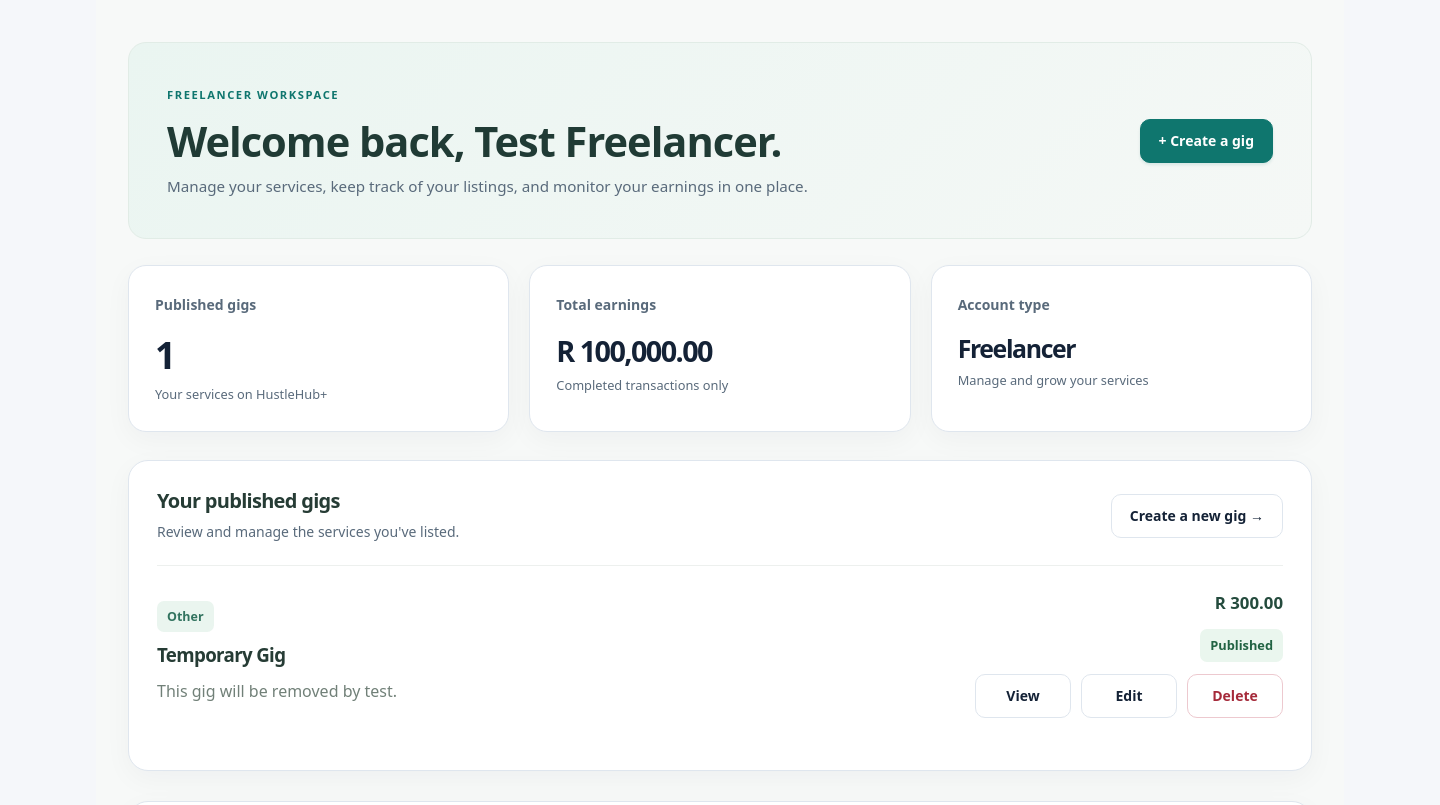
Test: Freelancer financial dashboard › handles gig deletion after confirmation
This screenshot has width=1440, height=805.
Expected: the heading "Temporary Gig" is shown, [157,642,285,667]
Click the button "Delete". click: (1235, 696)
box: [1187,674,1283,718]
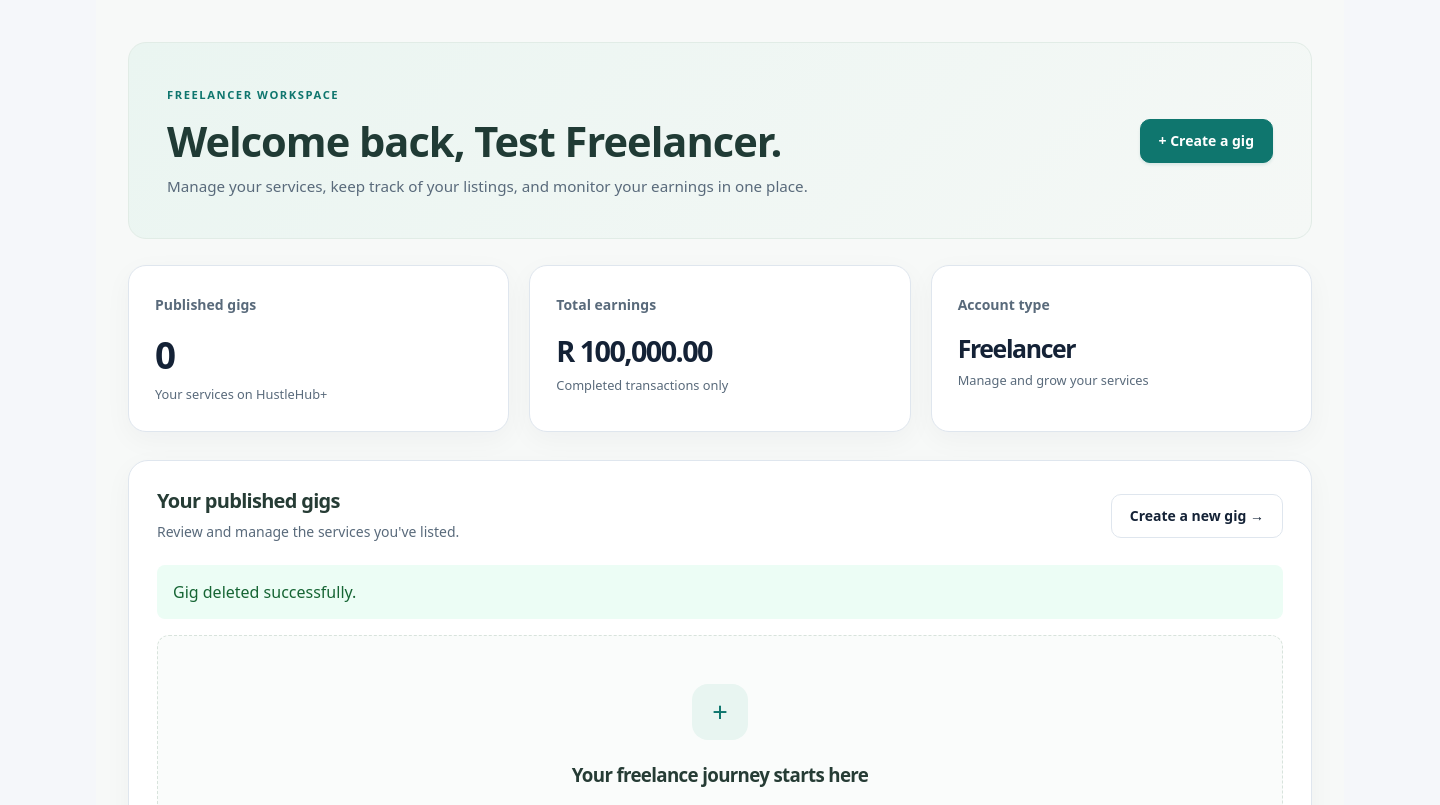
Expected: the text "Gig deleted successfully." is shown, [157,565,1283,619]
Expected: the heading "Temporary Gig" is gone
